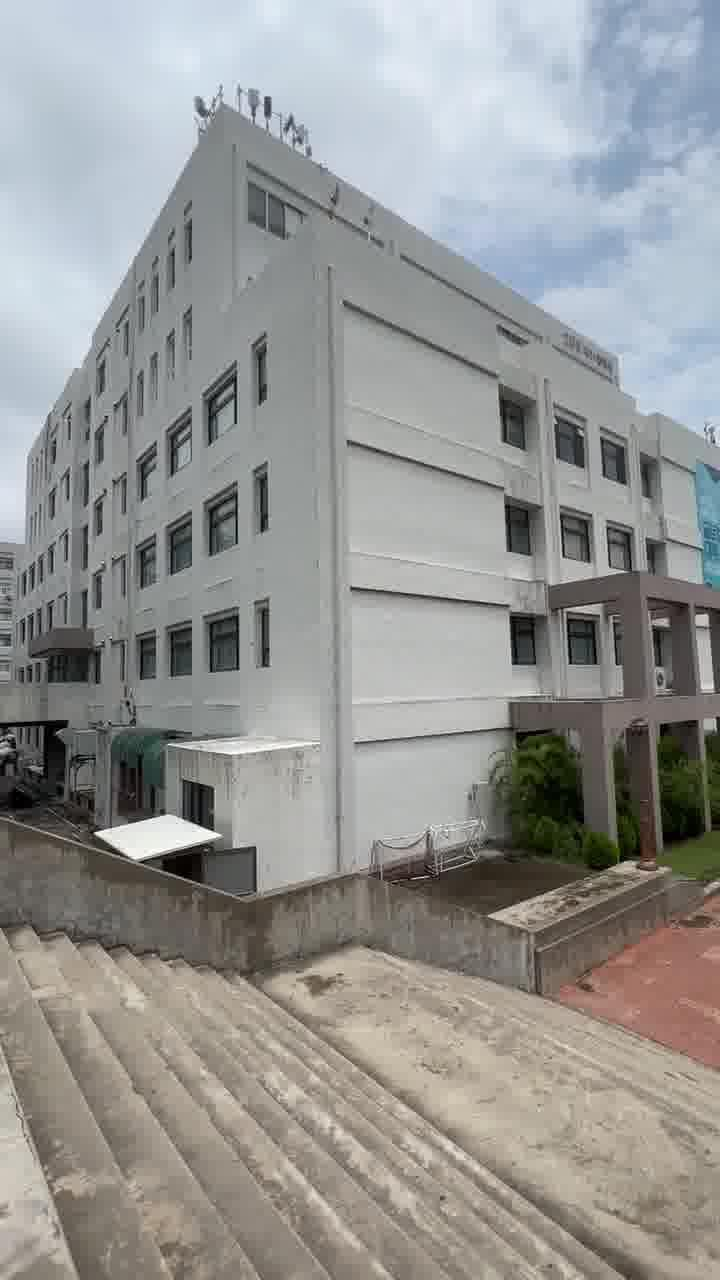building: (12, 74, 716, 826)
